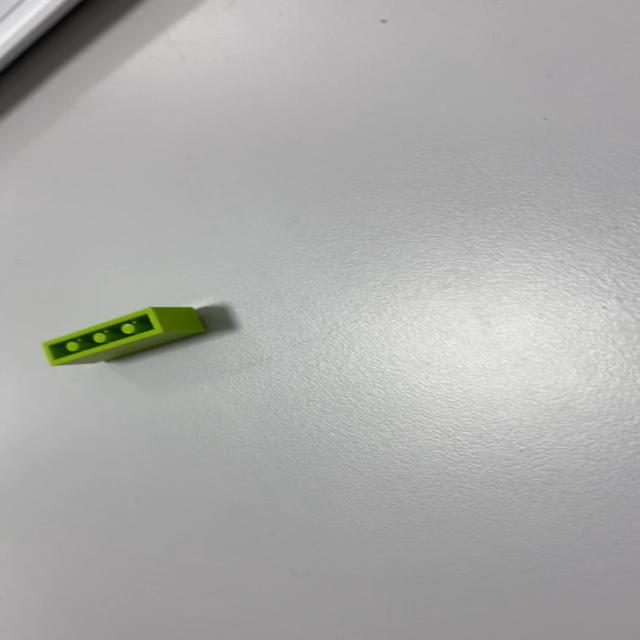C4x1x1: (39, 305, 206, 366)
